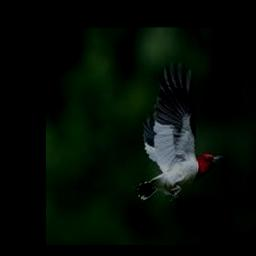Woodpecker: (133, 61, 223, 201)
